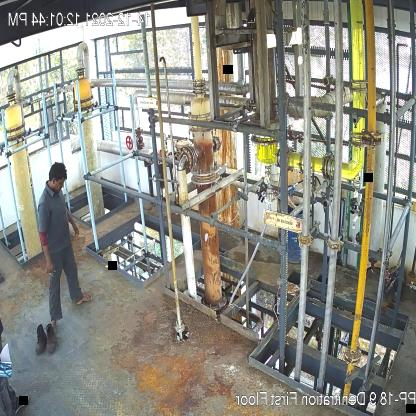no_shoes: (73, 289, 94, 308)
shoes: (34, 325, 45, 354), (47, 324, 57, 352)
